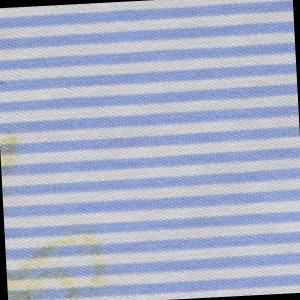Stain: (5, 224, 122, 300), (1, 126, 25, 171)
